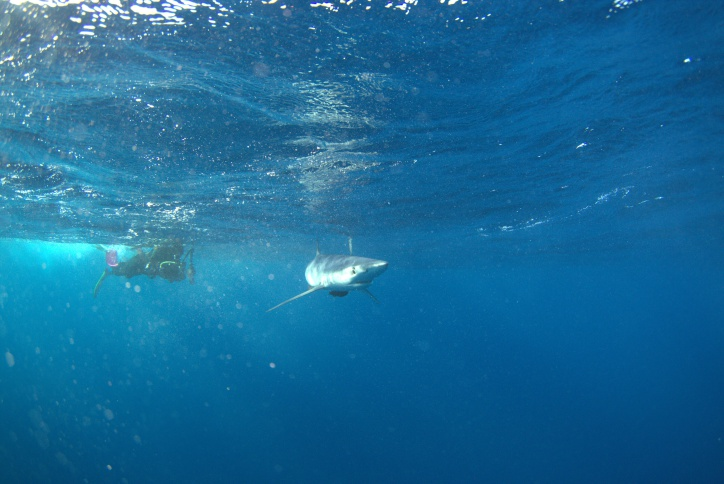Azul: (265, 233, 393, 318)
